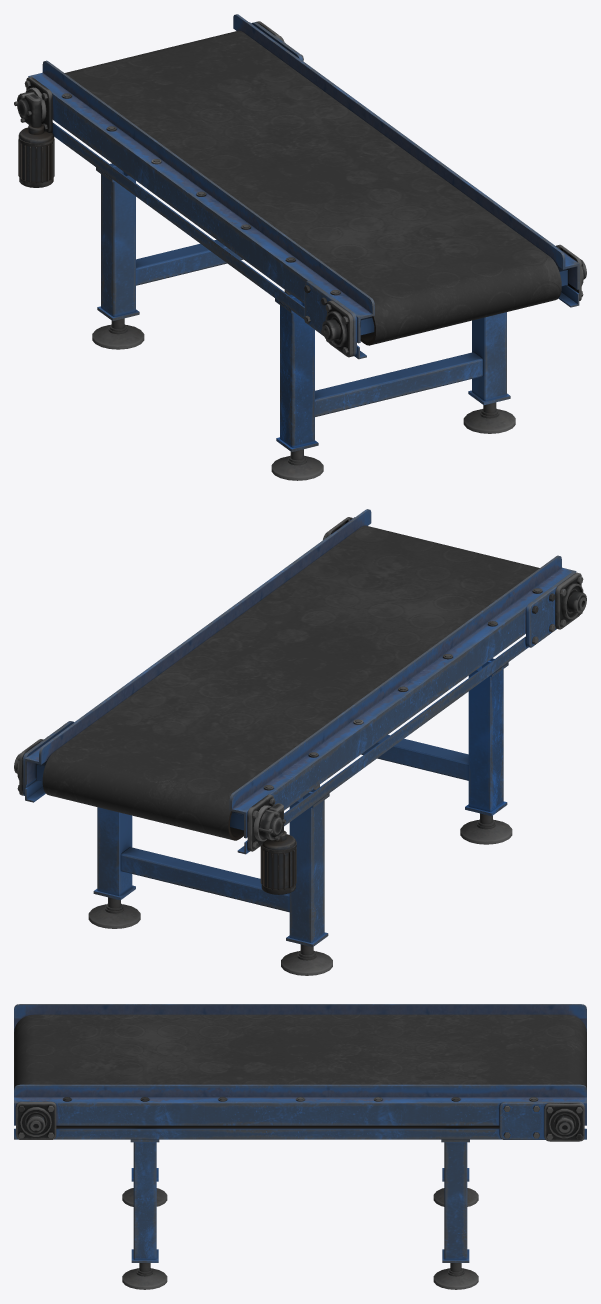
3 views of the same model, one above another, from view 1: azimuth 30°, elevation 25°; view 2: azimuth 150°, elevation 25°; view 3: azimuth 270°, elevation 25° (orthographic). The views are drawn at different scales.
Visible parts, largest first — view 1: Conveyor01Belt, Conveyor01Frame01, Conveyor01Legs, Conveyor01Frame02; view 2: Conveyor01Belt, Conveyor01Frame01, Conveyor01Legs, Conveyor01Frame02; view 3: Conveyor01Belt, Conveyor01Frame02, Conveyor01Legs, Conveyor01Frame01, Conveyor01Frame.
Part boxes in pixels (box(x1,y1,x2,y2)): Conveyor01Belt: box(65, 30, 561, 344); Conveyor01Frame01: box(14, 60, 374, 359); Conveyor01Legs: box(92, 163, 515, 480); Conveyor01Frame02: box(233, 14, 586, 307); Conveyor01Belt: box(42, 525, 539, 840); Conveyor01Frame01: box(229, 555, 586, 894); Conveyor01Legs: box(88, 658, 512, 975); Conveyor01Frame02: box(14, 509, 371, 802); Conveyor01Belt: box(14, 1014, 586, 1089); Conveyor01Frame02: box(14, 1084, 586, 1141); Conveyor01Legs: box(122, 1139, 478, 1289); Conveyor01Frame01: box(14, 1004, 586, 1031); Conveyor01Frame: box(56, 1125, 499, 1128).
Bounding box in the file's own units: 0.9422 × 0.7494 × 2.
2 materials, 2 textured.
